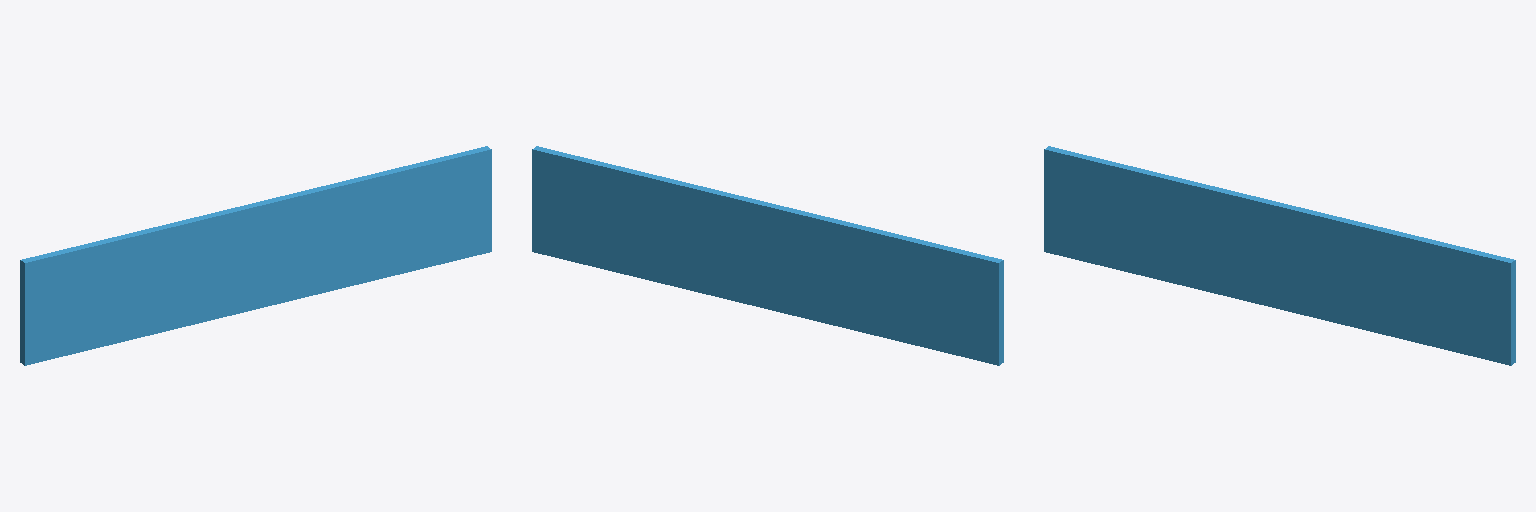
URDF robot description (hemis_26):
<?xml version="1.0" encoding="utf-8"?>    
    <robot name="hemis_26">
        <link name="hemis_26">    
            <fem>
                <origin rpy="0.0 0.0 0.0" xyz="0 0 0" />
                <density value="100" />
                <youngs value="1146"/>
                <poissons value="0.3" />
                <damping value="0.0" />
                <attachDistance value="0.04" />
                <tetmesh filename="[local-path]/sim_data/Custom/Custom_mesh/multi_hemis_1000Pa_2/hemis_26.tet" />
                <scale value="0.5"/>
            </fem>
        </link>

        <link name="fix_frame">
            <visual>
                <origin xyz="0 -10.126162402673335 0.06308120133666749"/>              
                <geometry>
                    <box size="0.3 0.005 0.06308120133666749"/>
                </geometry>
            </visual>
            <collision>
                <origin xyz="0 -0.12616240267333498 0.06308120133666749"/>              
                <geometry>
                    <box size="0.3 0.005 0.06308120133666749"/>
                </geometry>
            </collision>
            <inertial>
                <mass value="500000"/>
                <inertia ixx="0.05" ixy="0.0" ixz="0.0" iyy="0.05" iyz="0.0" izz="0.05"/>
            </inertial>
        </link>
        
        <joint name = "attach" type = "fixed">
            <origin xyz = "0.0 0.0 0.0" rpy = "0 0 0"/>
            <parent link ="hemis_26"/>
            <child link = "fix_frame"/>
        </joint>  




    </robot>
    

--- What the picture shows (computed from the rendered views, not written in the file) ---
Views: 3 orthographic renders of the robot side by side, from view 1: azimuth 30°, elevation 25°; view 2: azimuth 150°, elevation 25°; view 3: azimuth 330°, elevation 25°.
Robot: hemis_26 — 2 links, 1 joints (1 fixed); root link hemis_26; default pose: every joint at zero.
Visible links, largest first — view 1: fix_frame; view 2: fix_frame; view 3: fix_frame.
Boxes of the visible links, left/top/right/bottom form: fix_frame: left=20, top=146, right=491, bottom=365; fix_frame: left=532, top=146, right=1003, bottom=365; fix_frame: left=1044, top=146, right=1515, bottom=365.
Bounding box of the posed robot: 0.3 × 0.005 × 0.0631 m (x, y, z).
Geometry: primitives only (box / cylinder / sphere), no mesh files.
